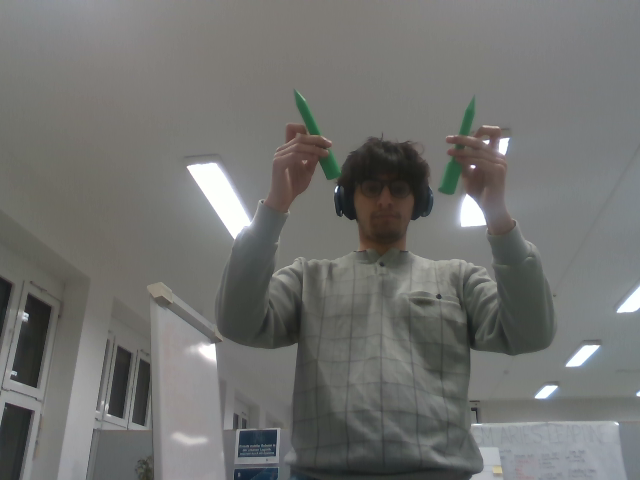Probe: (289, 84, 344, 182), (436, 89, 479, 197)
